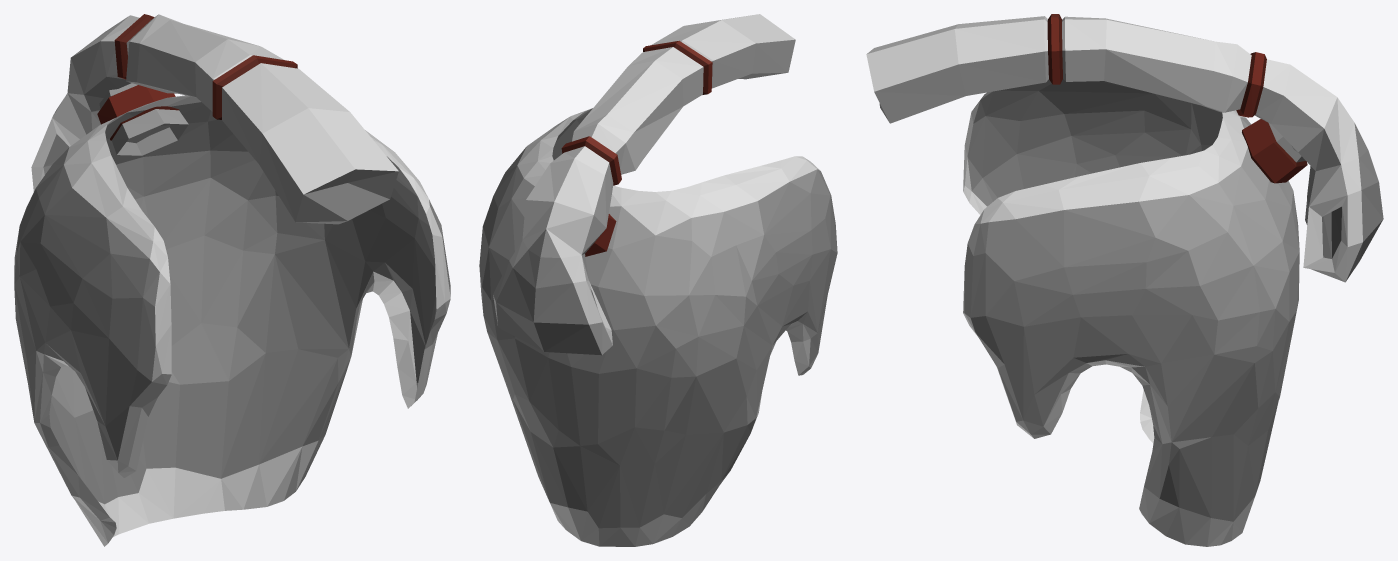
Rendered from chonmage.glb.
3 views of the same model, side by side, from view 1: azimuth 30°, elevation 25°; view 2: azimuth 150°, elevation 25°; view 3: azimuth 270°, elevation 25° (orthographic). The views are drawn at different scales.
Visible parts, largest first — view 1: chonmage; view 2: chonmage; view 3: chonmage.
Part boxes in pixels (x1,y1,x2,y2): chonmage: (14,14,450,546); chonmage: (479,14,837,546); chonmage: (866,14,1383,546).
Size of the model in its own units: 0.2395 by 0.3564 by 0.3291.
